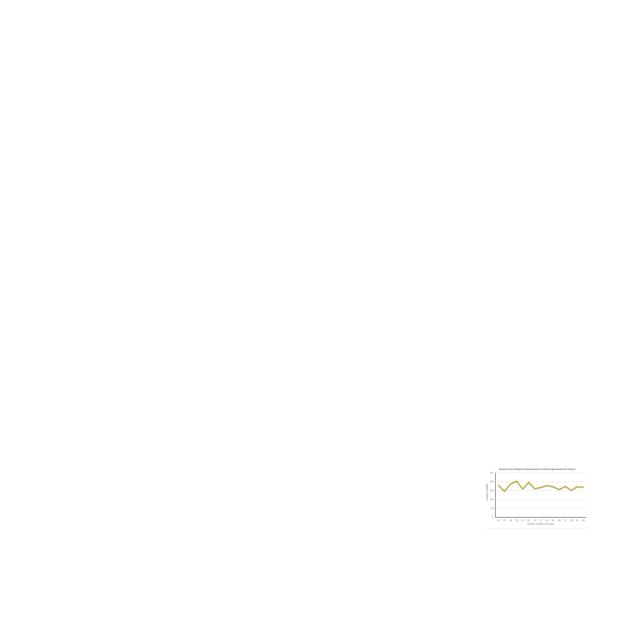Graph: (483, 465, 589, 529)
